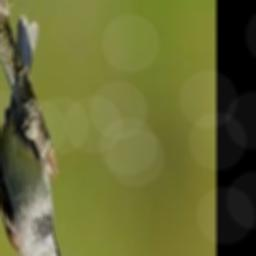Sparrow: (0, 16, 70, 256)
